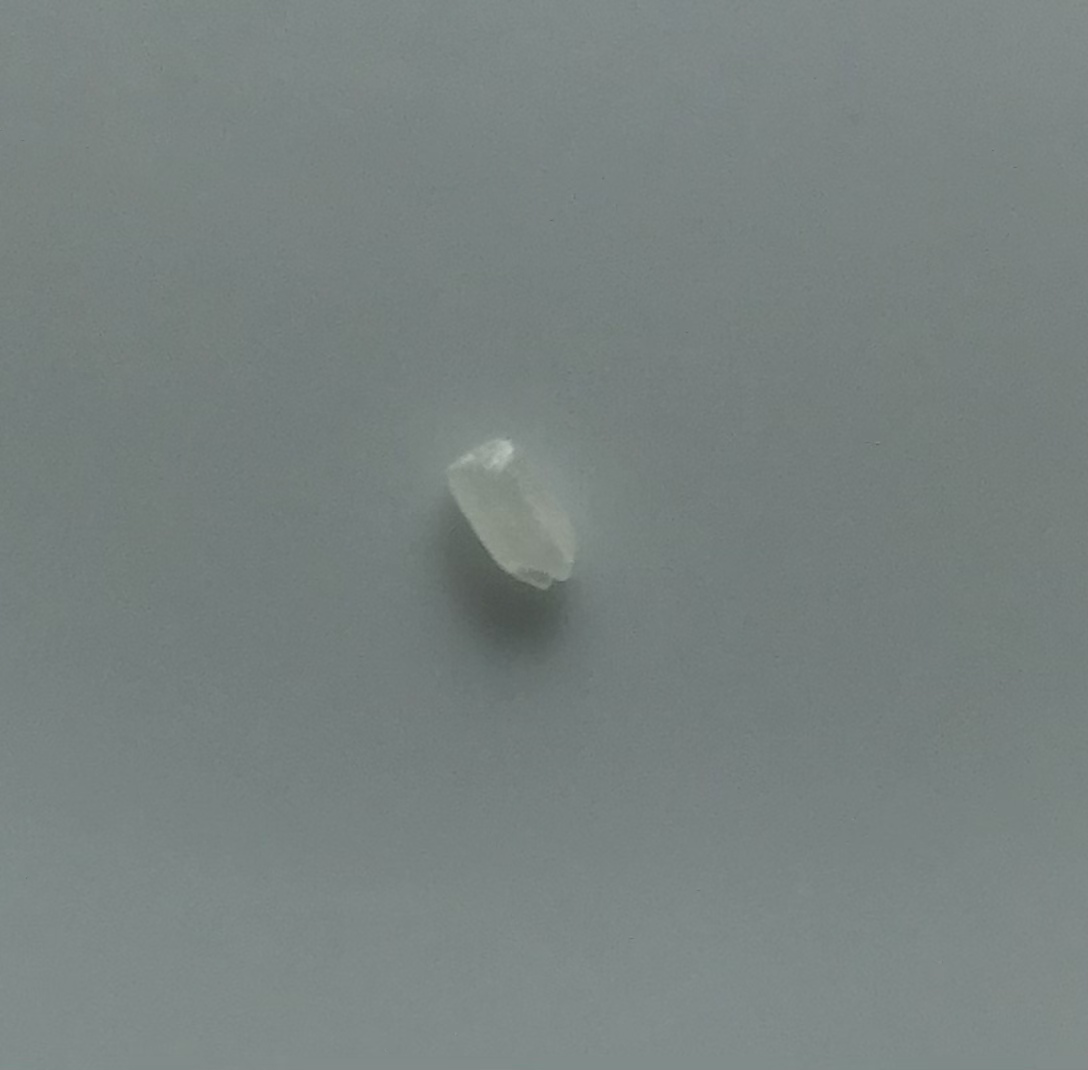Gao Tam: (439, 428, 582, 608)
